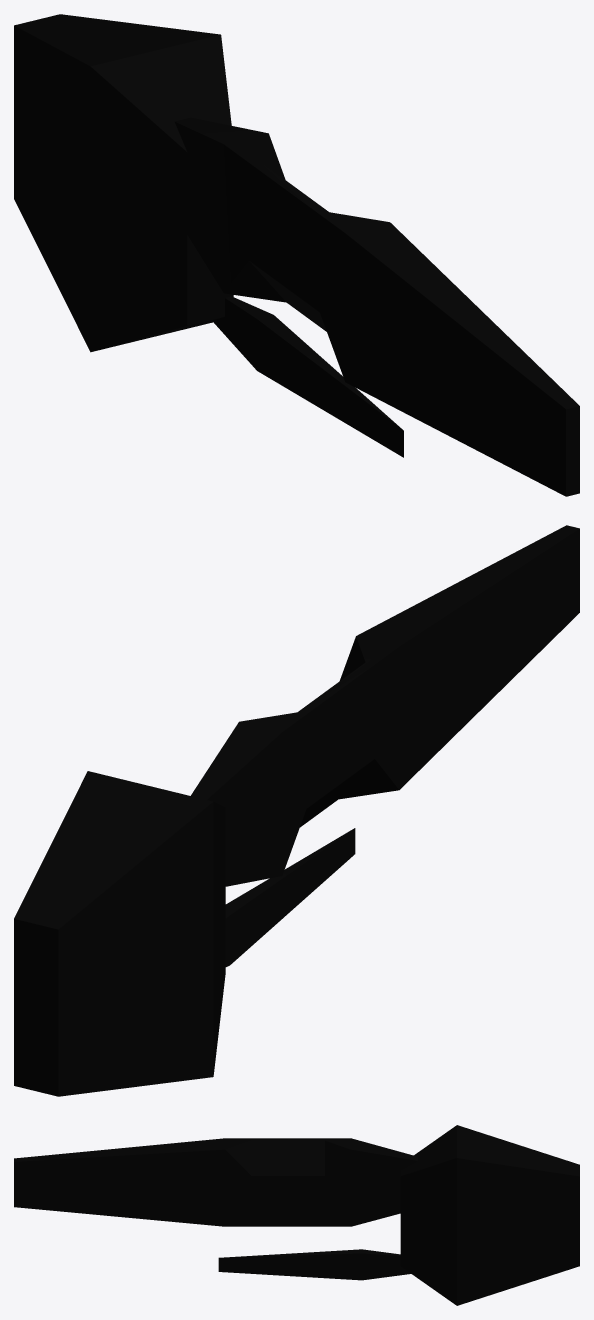
File: sensor_s_01.glb
3 views of the same model, one above another, from view 1: azimuth 30°, elevation 25°; view 2: azimuth 150°, elevation 25°; view 3: azimuth 270°, elevation 25° (orthographic). The views are drawn at different scales.
Visible parts, largest first — view 1: sensor_s_01_LOD0; view 2: sensor_s_01_LOD0; view 3: sensor_s_01_LOD0.
Boxes of the visible parts, box(x1,y1,x2,y2) form: sensor_s_01_LOD0: box(14, 14, 579, 496); sensor_s_01_LOD0: box(14, 525, 579, 1096); sensor_s_01_LOD0: box(14, 1125, 579, 1305).
Size of the model in its own units: 0.1437 by 0.3006 by 1.04.
Materials: 1 (1 with a texture image).
